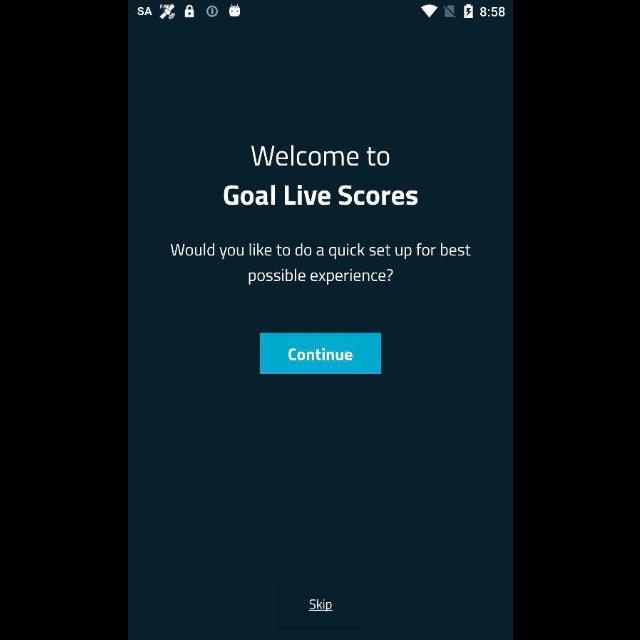text: (170, 242, 470, 286), (222, 185, 418, 207), (250, 145, 390, 167), (308, 598, 332, 612)
textbutton: (259, 333, 381, 375)
uppertaskbar: (128, 1, 512, 23)
